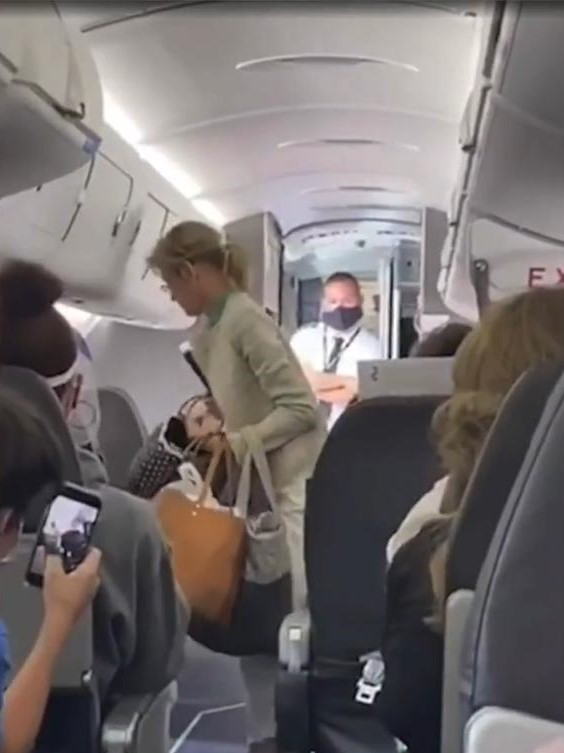with_mask: (328, 286, 355, 327)
without_mask: (164, 263, 205, 305)
